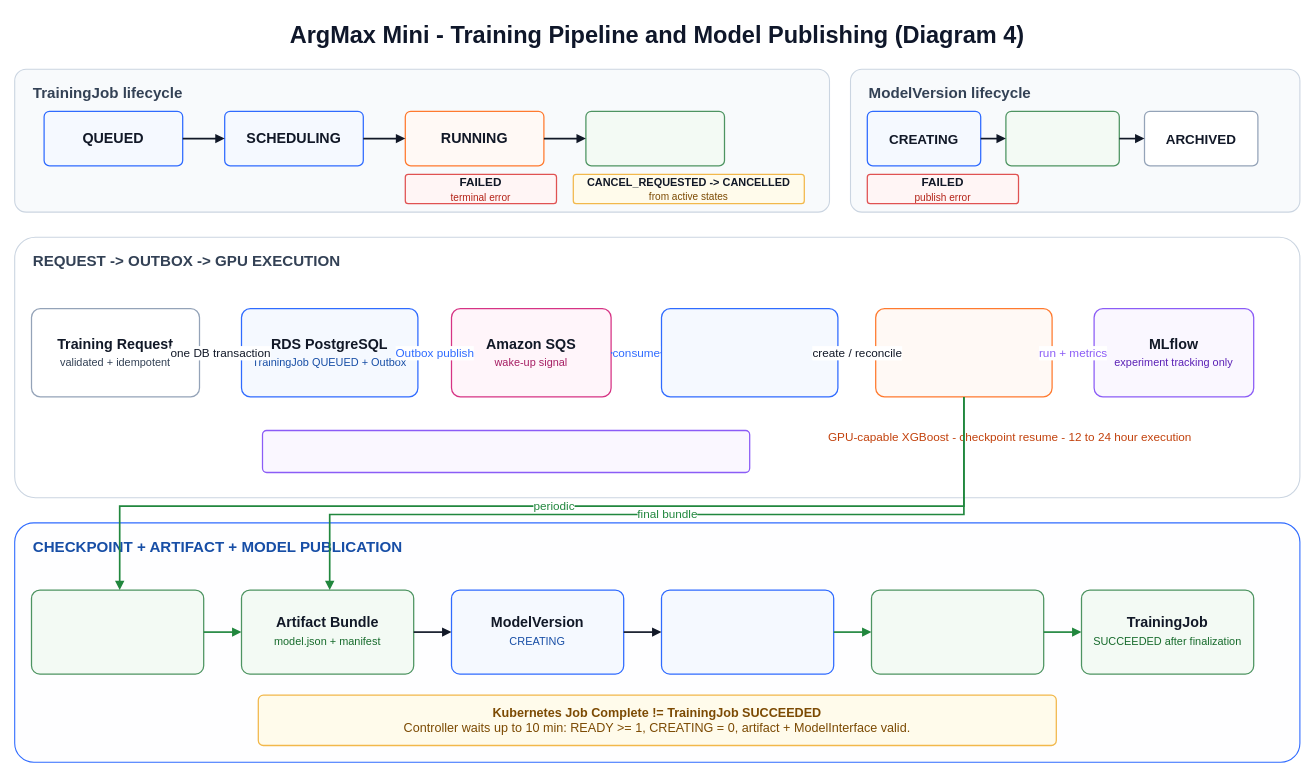
The diagram is 1315 pixels wide and 777 high, and some of its shapes have lost their labels. The centre of each missing label's shape, as x and y in pixels:
Checkpoint S3 immutable + RDS metadata: the point at 117,631
GPU Training Job Karpenter GPU NodePool: the point at 963,352
ModelInterface validated JSON Schema: the point at 747,631
ModelVersion READY publish marker: the point at 957,631
RDS is the business source of truth. MLflow is not the Model Registry.: the point at 505,451
READY: the point at 1062,138
SUCCEEDED: the point at 655,138
Training Controller quota + reconcile + finalize: the point at 749,352
